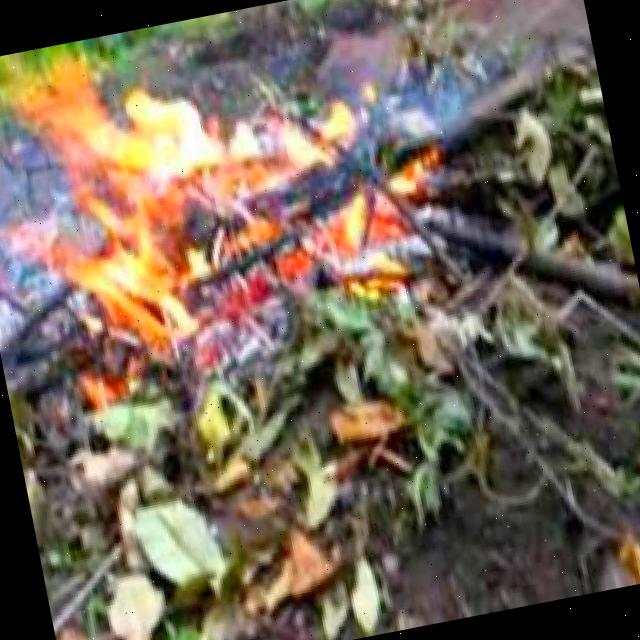fire: (0, 3, 451, 358)
